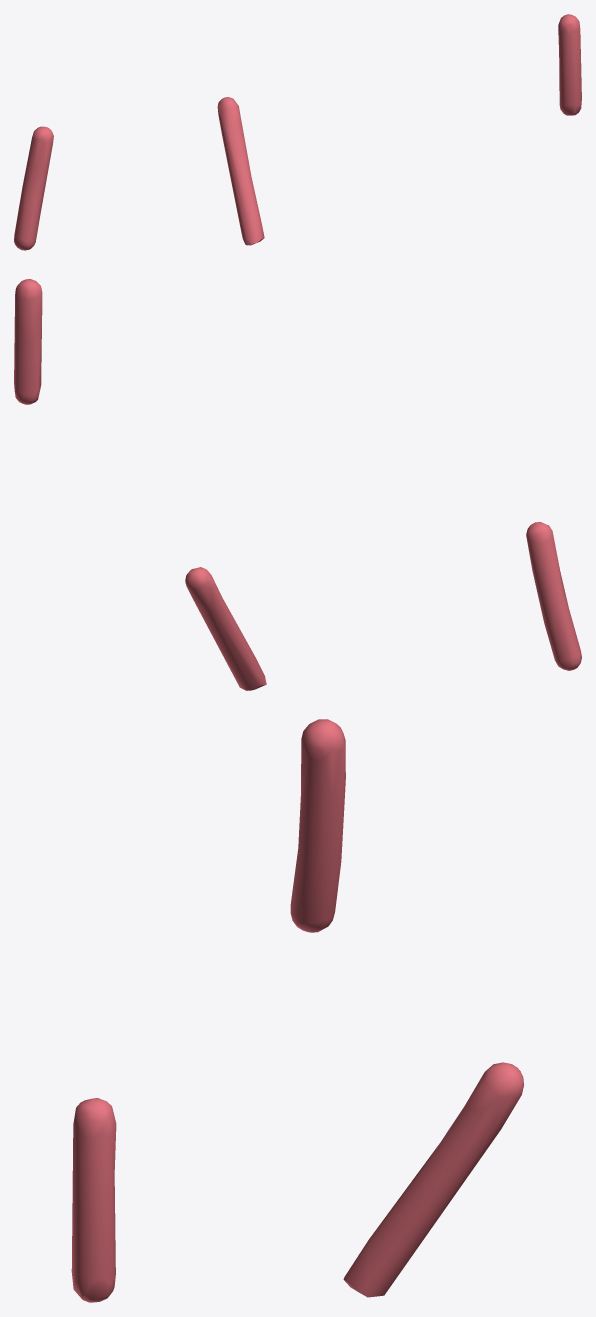
Rendered from fma22923_fj2352.glb.
3 renders of one model, top to bottom at view 1: azimuth 30°, elevation 25°; view 2: azimuth 150°, elevation 25°; view 3: azimuth 270°, elevation 25°, orthographic. The views are drawn at different scales.
Visible parts, largest first — view 1: FMA22923_FJ2352; view 2: FMA22923_FJ2352; view 3: FMA22923_FJ2352.
Boxes of the visible parts, x1,y1,x2,y2 form: FMA22923_FJ2352: (14,14,581,250); FMA22923_FJ2352: (14,279,581,690); FMA22923_FJ2352: (71,719,523,1302).
Size of the model in its own units: 0.0386 by 0.0157 by 0.0148.
